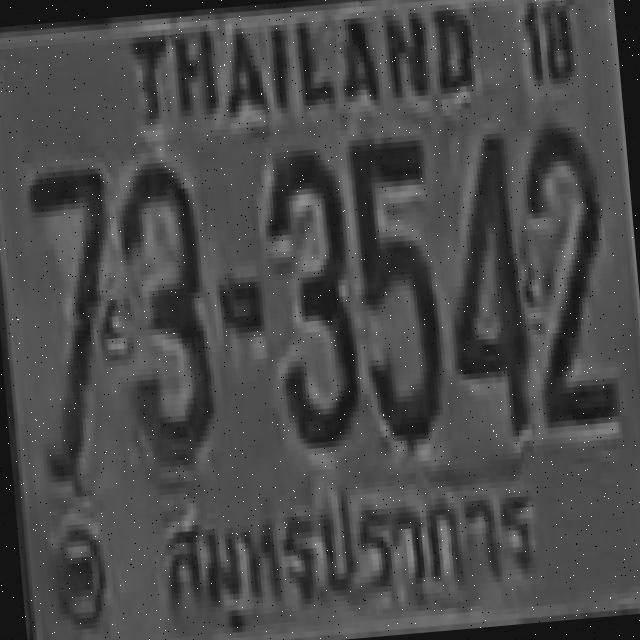2: (518, 113, 618, 422)
3: (109, 154, 216, 463), (258, 142, 361, 446)
4: (434, 126, 531, 430)
5: (344, 129, 445, 443)
7: (22, 162, 126, 477)
SamutPrakan: (147, 454, 548, 640)
